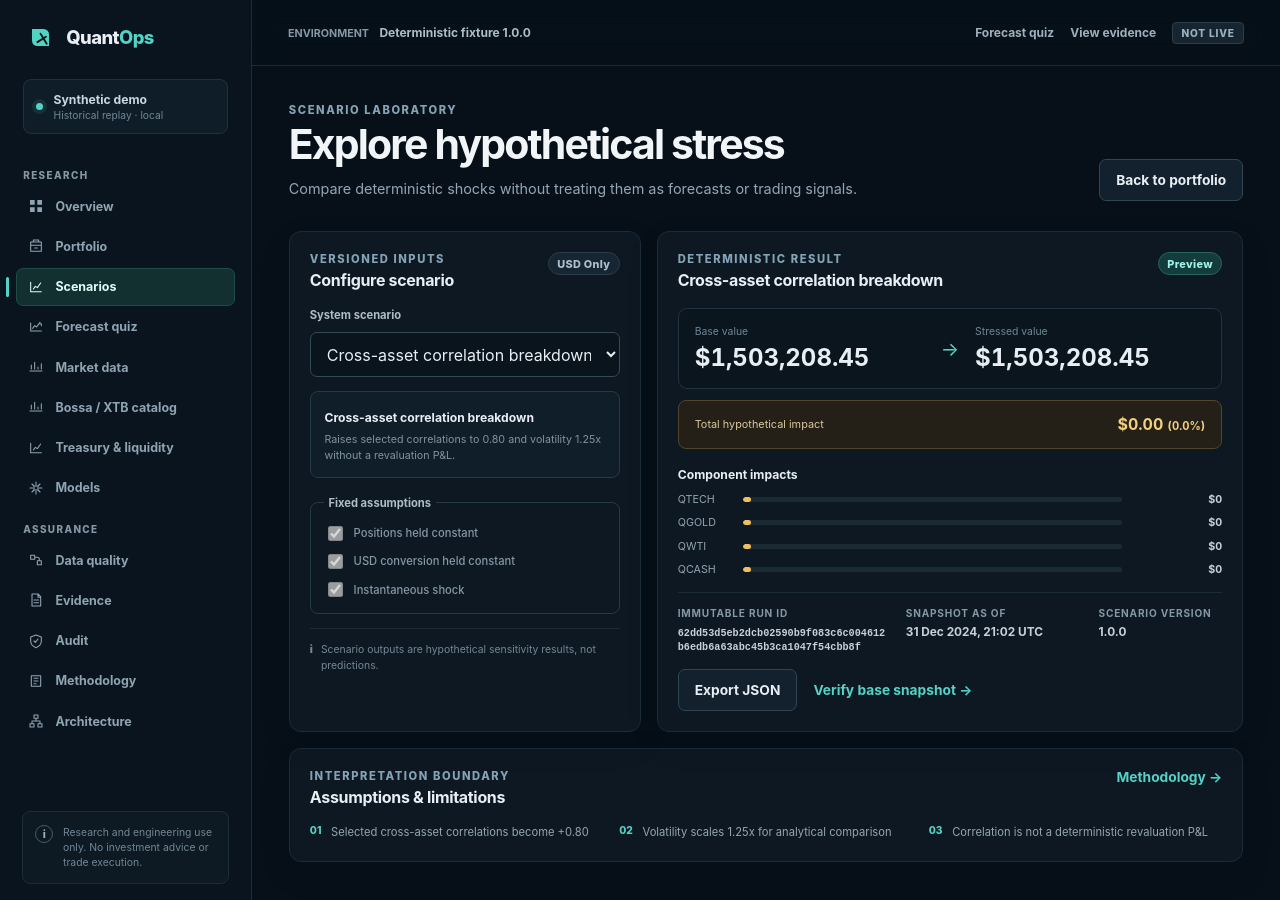
Test case: QuantOps frontend › validates custom scenario percentages and renders deterministic impacts
Check: the heading "Explore hypothetical stress" is shown, box [289,122,857,168]
Select "Equity selloff 15% · v1.0.0" in the dropdown labelled "System scenario" at [465, 355], box [310,332,620,377]
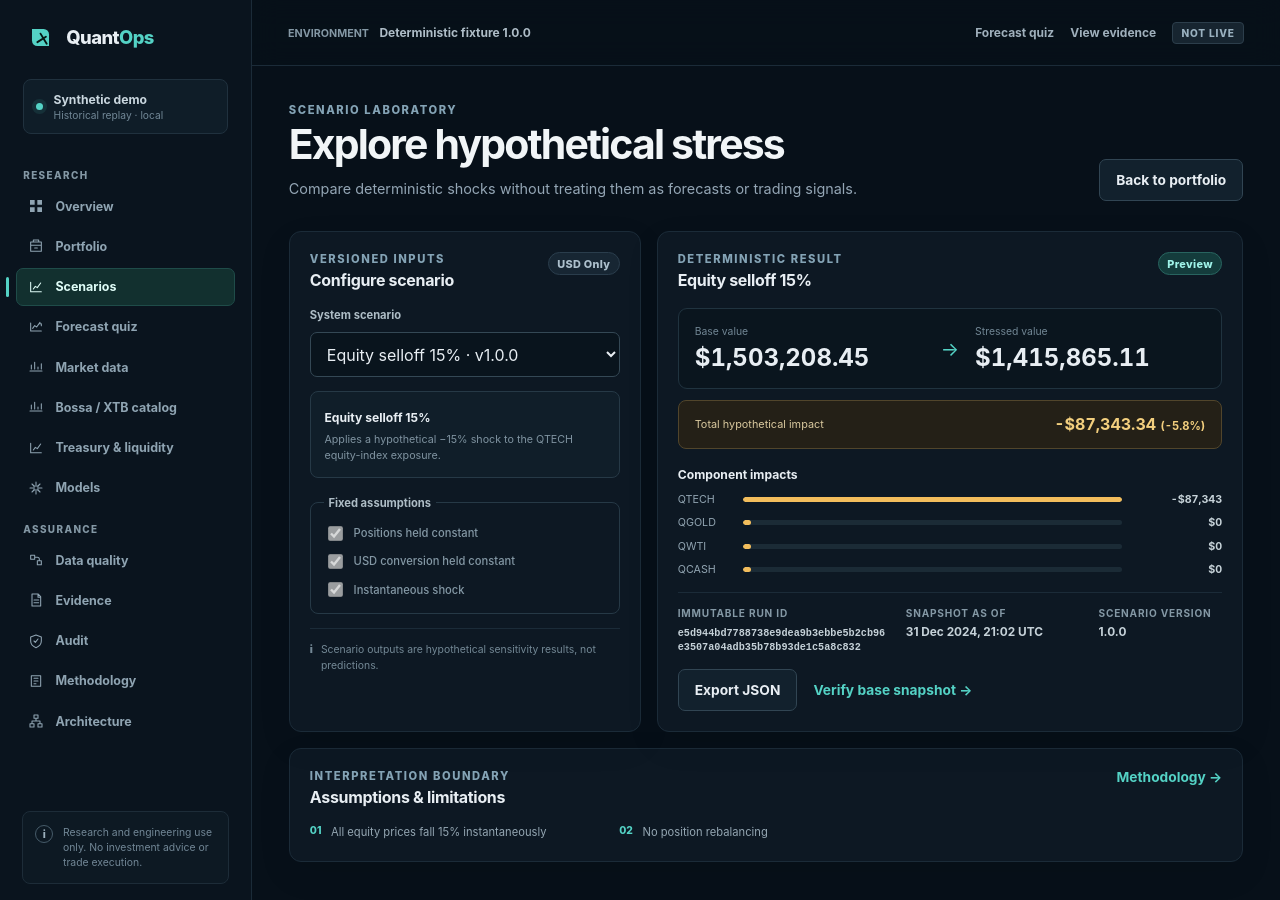
Check: the text "-$87,343.34" is shown, box [1054,414,1156,434]
Check: the text "$1,415,865.11" is shown, box [975,343,1150,372]
Select "Custom QTECH shock · local preview" in the dropdown labelled "System scenario" at [465, 355], box [310,332,620,377]
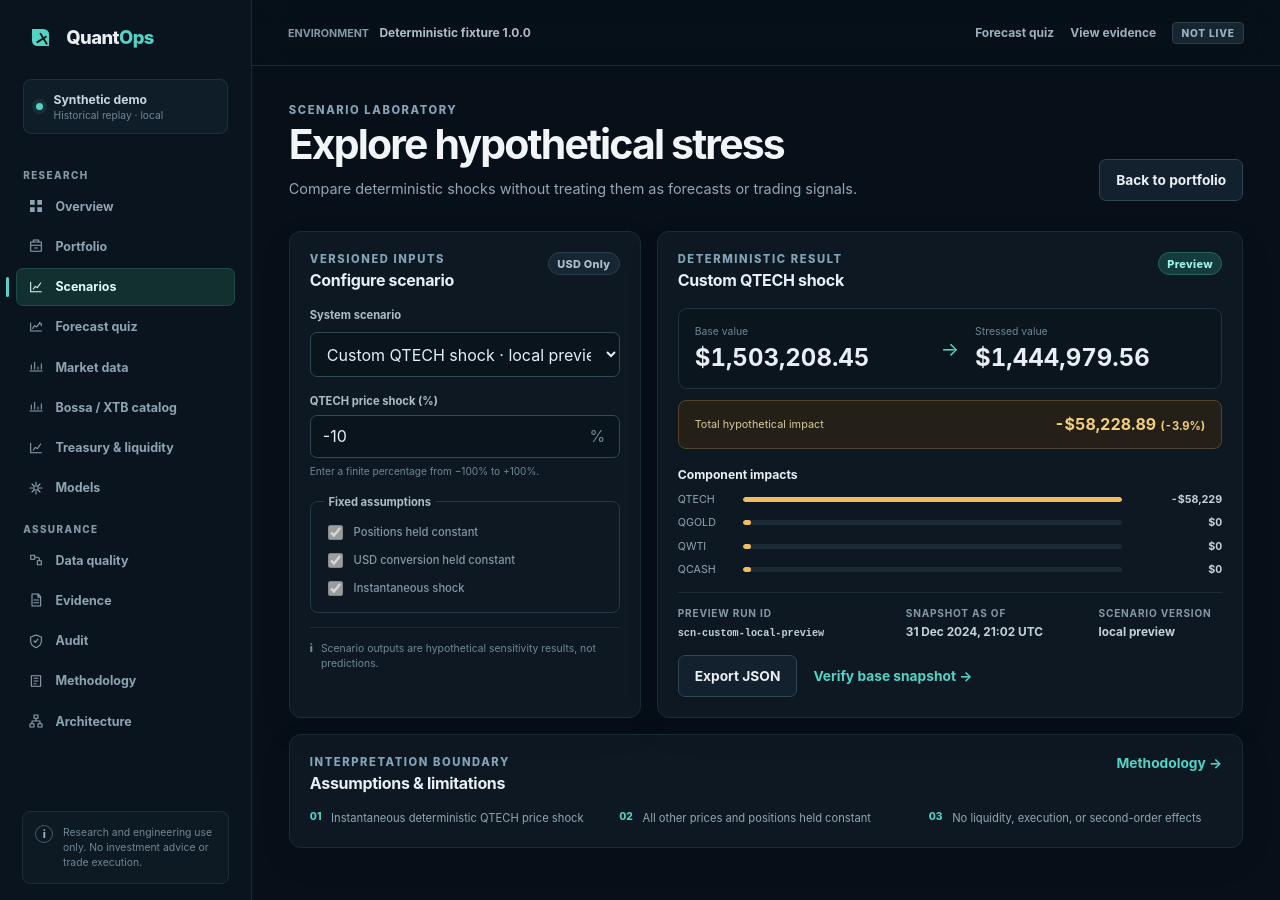
Replace the text in the number field labelled "QTECH price shock (%)" with "101" at [465, 436], box [310,415,620,458]
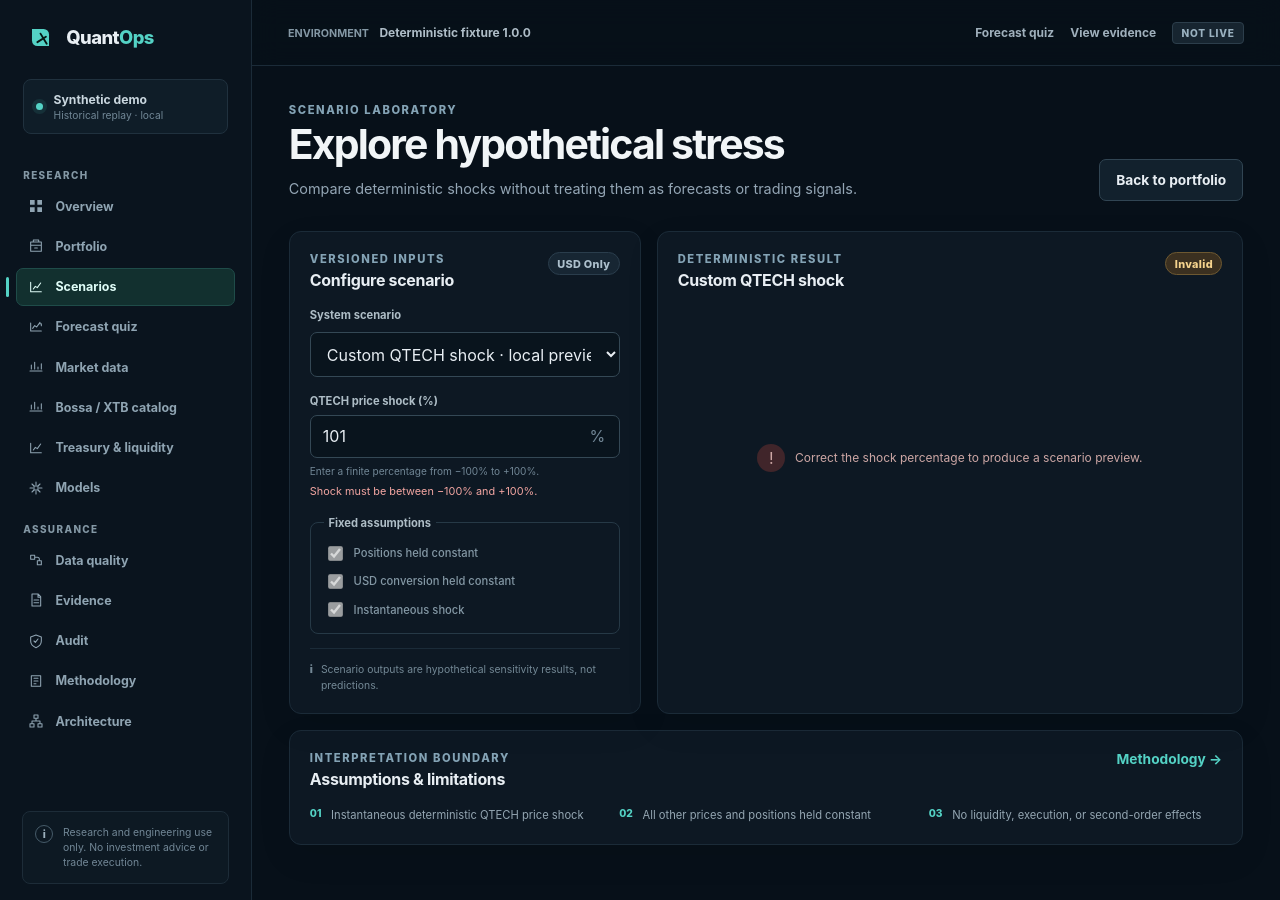
Check: the message shows "between −100% and +100%", box [310,484,537,498]
Check: the text "Correct the shock percentage to produce a scenario preview." is shown, box [795,450,1142,465]
Replace the text in the number field labelled "QTECH price shock (%)" with "-12.5" at [465, 436], box [310,415,620,458]
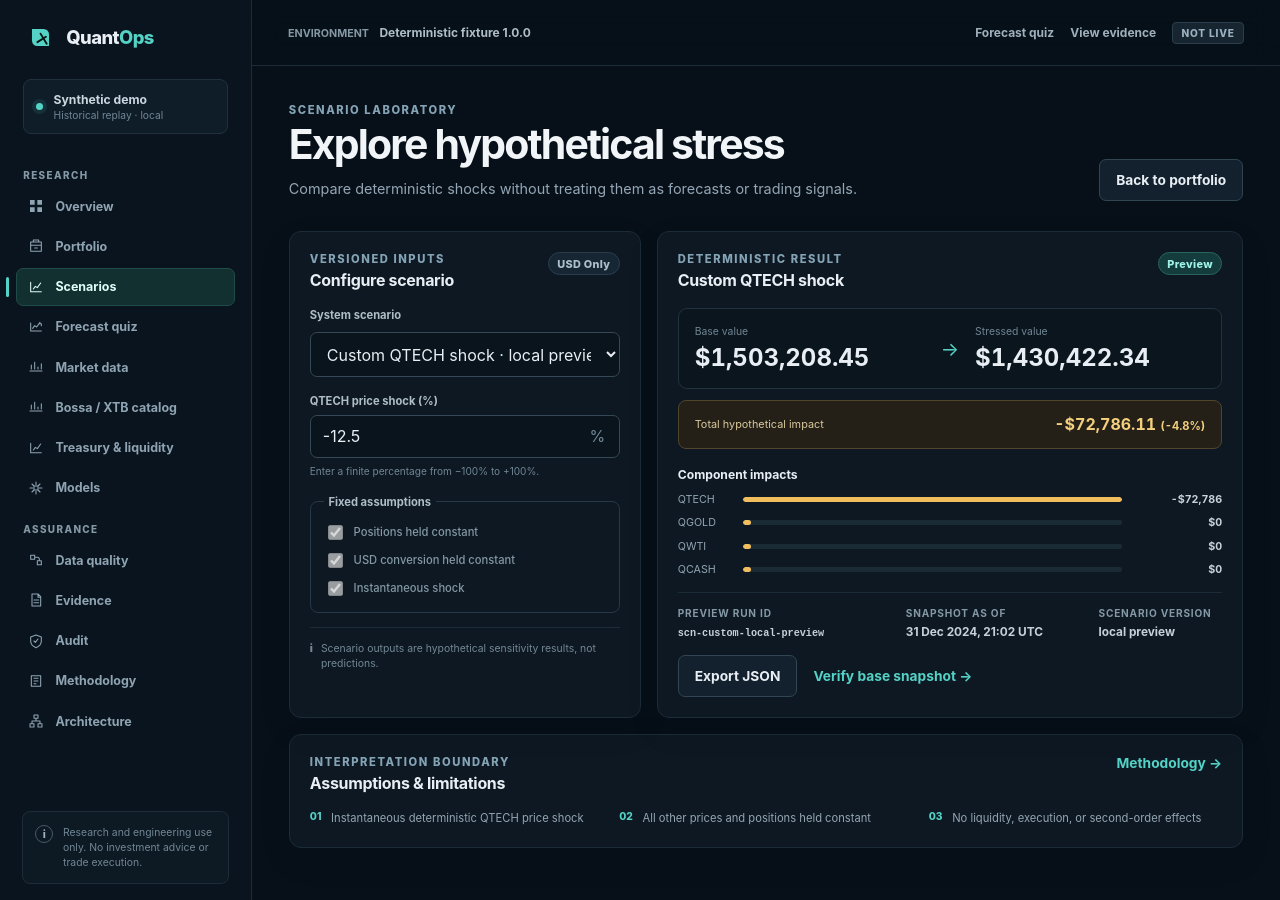
Check: the message "Shock must be between −100% and +100%." is gone
Check: the text "-$72,786.11" is shown, box [1054,414,1156,434]
Check: the text "(-4.8%)" is shown, box [1160,419,1205,433]
